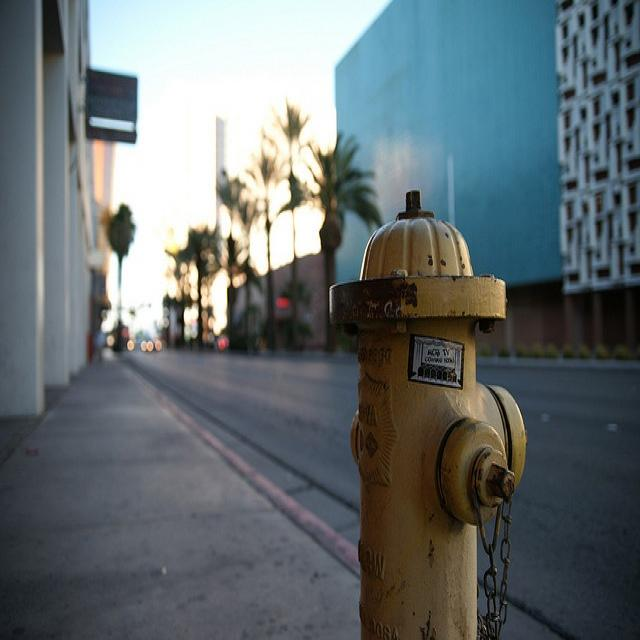fire_hydrant: (324, 184, 526, 631)
